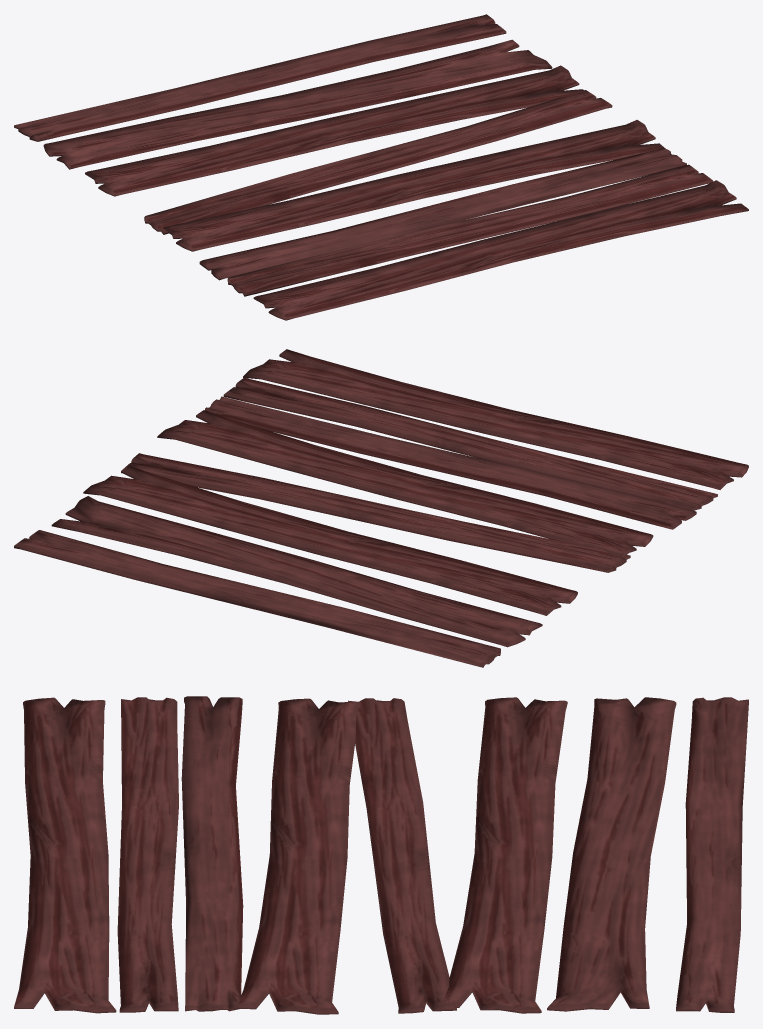
File: MOD_PlankFloor.fbx
The picture shows the model from 3 angles, top to bottom: view 1: azimuth 30°, elevation 25°; view 2: azimuth 150°, elevation 25°; view 3: azimuth 270°, elevation 25°; orthographic projection. The views are drawn at different scales.
Parts seen in each view (by area): view 1: MOD_PlankFloor; view 2: MOD_PlankFloor; view 3: MOD_PlankFloor.
Boxes of the visible parts, box(x1,y1,x2,y2) form: MOD_PlankFloor: box(14, 14, 748, 320); MOD_PlankFloor: box(14, 349, 748, 667); MOD_PlankFloor: box(14, 696, 748, 1014).
Size of the model in its own units: 404 by 3.45 by 397.
Materials: 1 (1 with a texture image).
